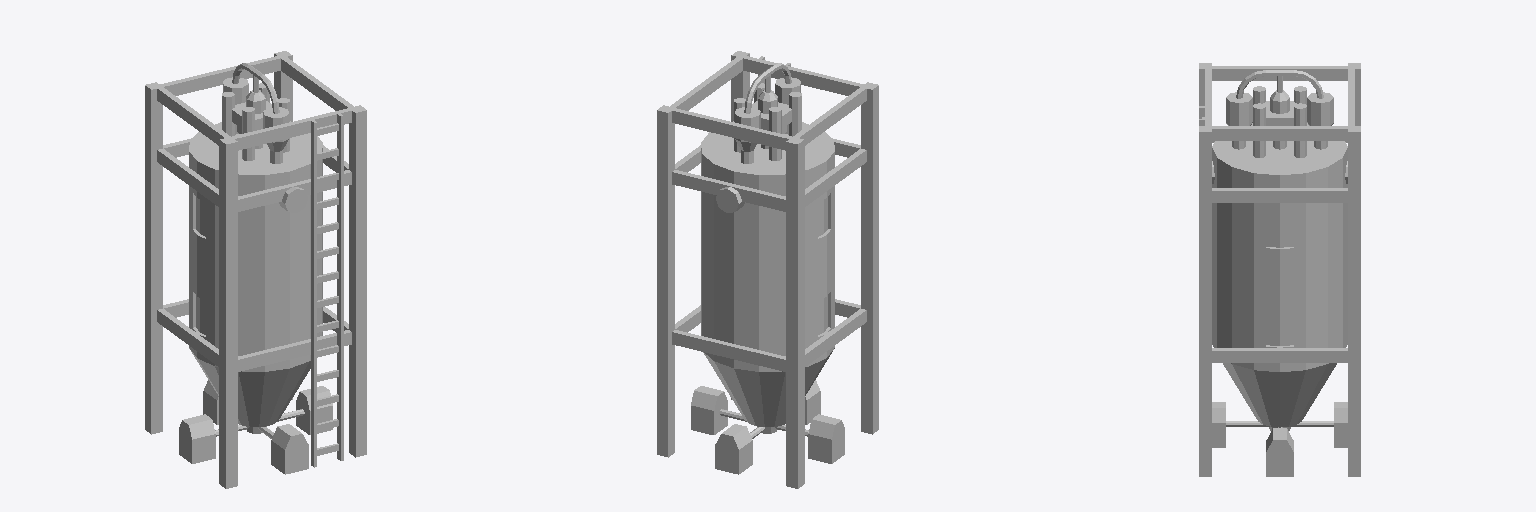
Rendered from crystallizer.obj.
The picture shows the model from 3 angles: view 1: azimuth 30°, elevation 25°; view 2: azimuth 150°, elevation 25°; view 3: azimuth 270°, elevation 25°; orthographic projection.
Visible parts, largest first — view 1: Body, Windows; view 2: Body, Windows; view 3: Body, Windows.
Part boxes in pixels (x1,y1,x2,y2): Body: (145,51,366,488); Windows: (196,197,205,334); Body: (657,51,878,488); Windows: (818,197,827,334); Body: (1199,63,1360,476); Windows: (1266,211,1293,345).
Size of the model in its own units: 3 by 7.56 by 3.